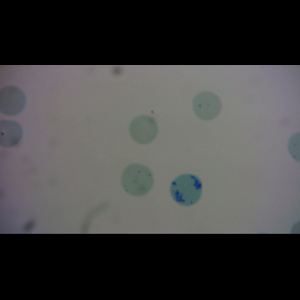aggregate reticulocyte: (168, 172, 203, 207)
erythrocyte: (128, 115, 159, 146), (1, 83, 27, 116)
punctate reticulocyte: (120, 162, 154, 197), (191, 90, 224, 122)
